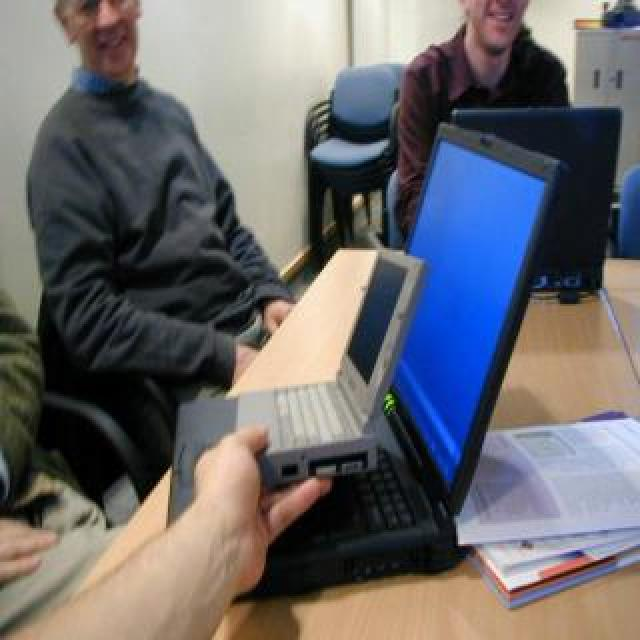laptop_computer: (158, 135, 562, 604), (247, 248, 429, 470)
